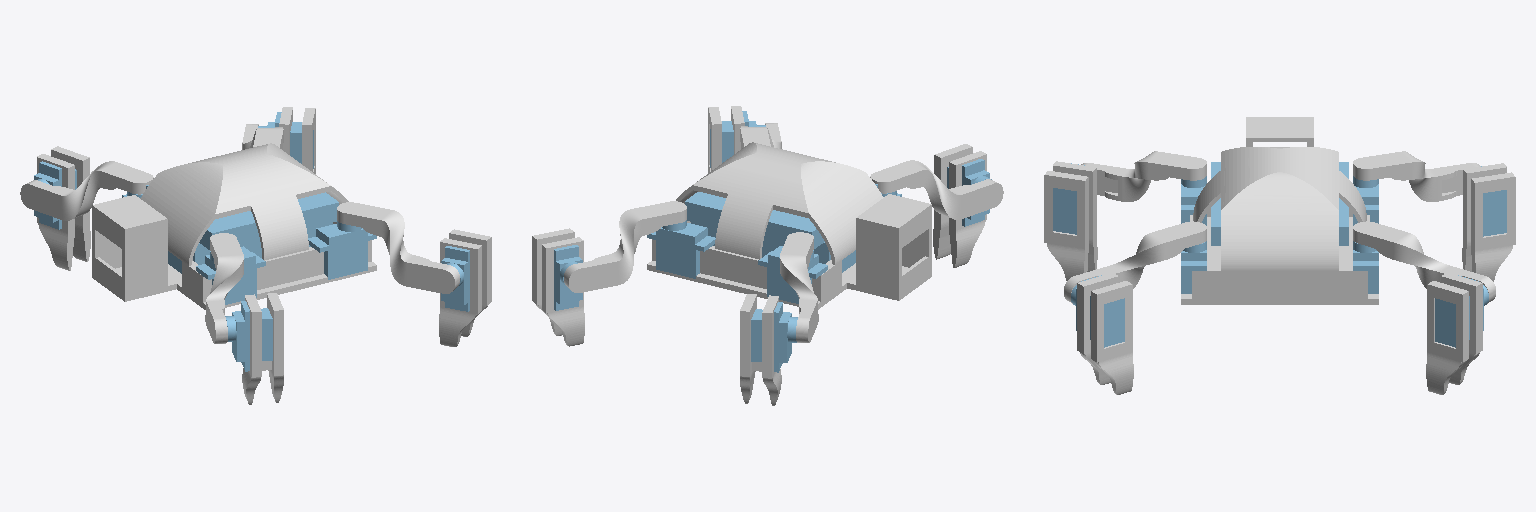
URDF robot description (quadruped_description):
<!--URDF generated by ONSHAPE BY PTC INC, 1.223-->
<robot name="quadruped_description">
    <link name="battery">
        <inertial>
            <mass value="6.6297e-05" />
            <origin xyz="-7.51456e-18 5.50052e-18 0.0105" rpy="0 -0 0" />
            <inertia ixx="3.51927e-08" ixy="0" ixz="0" iyy="1.17235e-08" iyz="0" izz="4.20433e-08" />
        </inertial>
        <visual>
            <origin xyz="-7.41044e-18 7.51008e-18 0" rpy="0 -0 0" />
            <geometry>
                <mesh filename="package://quadruped_description/meshes/battery.stl" scale="1 1 1" />
            </geometry>
            <material name="0.615686_0.811765_0.929412_0.000000_0.000000">
                <color rgba="0.615686 0.811765 0.929412 1" />
            </material>
        </visual>
    </link>
    <link name="body_bottom">
        <inertial>
            <mass value="0.0529947" />
            <origin xyz="0.00498473 4.07013e-18 0.00426981" rpy="0 -0 0" />
            <inertia ixx="3.99559e-05" ixy="0" ixz="-1.63984e-06" iyy="6.26816e-05" iyz="0" izz="0.000100265" />
        </inertial>
        <visual>
            <origin xyz="-0.0415721 -1.04723e-18 0" rpy="0 -0 0" />
            <geometry>
                <mesh filename="package://quadruped_description/meshes/body_bottom.stl" scale="1 1 1" />
            </geometry>
            <material name="0.901961_0.901961_0.901961_0.000000_0.000000">
                <color rgba="0.901961 0.901961 0.901961 1" />
            </material>
        </visual>
    </link>
    <link name="body_top">
        <inertial>
            <mass value="0.0220922" />
            <origin xyz="-0.0475001 2.4544e-08 0.0202714" rpy="0 -0 0" />
            <inertia ixx="1.12547e-05" ixy="-7.95807e-12" ixz="5.44726e-11" iyy="1.96837e-05" iyz="-1.43156e-10" izz="2.66986e-05" />
        </inertial>
        <visual>
            <origin xyz="-0.095 0 0" rpy="0 -0 0" />
            <geometry>
                <mesh filename="package://quadruped_description/meshes/body_top.stl" scale="1 1 1" />
            </geometry>
            <material name="0.901961_0.901961_0.901961_0.000000_0.000000">
                <color rgba="0.901961 0.901961 0.901961 1" />
            </material>
        </visual>
    </link>
    <link name="electronics">
        <inertial>
            <mass value="4.576e-05" />
            <origin xyz="7.33348e-18 2.53543e-19 0.005" rpy="0 -0 0" />
            <inertia ixx="1.60007e-08" ixy="0" ixz="0" iyy="1.9876e-08" iyz="0" izz="3.51141e-08" />
        </inertial>
        <visual>
            <origin xyz="9.39275e-18 -9.86649e-19 0" rpy="0 -0 0" />
            <geometry>
                <mesh filename="package://quadruped_description/meshes/electronics.stl" scale="1 1 1" />
            </geometry>
            <material name="0.615686_0.811765_0.929412_0.000000_0.000000">
                <color rgba="0.615686 0.811765 0.929412 1" />
            </material>
        </visual>
    </link>
    <link name="femur_left">
        <inertial>
            <mass value="0.00841079" />
            <origin xyz="-0.0270347 -0.00708963 0.0113577" rpy="0 0.610865 0" />
            <inertia ixx="1.01501e-06" ixy="-1.14374e-06" ixz="-7.15637e-07" iyy="2.97273e-06" iyz="-3.8721e-07" izz="3.36401e-06" />
        </inertial>
        <visual>
            <origin xyz="0.00094194 0.004 -0.00126994" rpy="0 0.610865 0" />
            <geometry>
                <mesh filename="package://quadruped_description/meshes/femur_left.stl" scale="1 1 1" />
            </geometry>
            <material name="0.901961_0.901961_0.901961_0.000000_0.000000">
                <color rgba="0.901961 0.901961 0.901961 1" />
            </material>
        </visual>
    </link>
    <link name="femur_left_1">
        <inertial>
            <mass value="0.00841079" />
            <origin xyz="-0.0251522 -0.00708963 -0.0146913" rpy="0 -0.349066 0" />
            <inertia ixx="1.01501e-06" ixy="-1.14374e-06" ixz="-7.15637e-07" iyy="2.97273e-06" iyz="-3.8721e-07" izz="3.36401e-06" />
        </inertial>
        <visual>
            <origin xyz="0.00123853 0.004 0.000982877" rpy="0 -0.349066 0" />
            <geometry>
                <mesh filename="package://quadruped_description/meshes/femur_left.stl" scale="1 1 1" />
            </geometry>
            <material name="0.901961_0.901961_0.901961_0.000000_0.000000">
                <color rgba="0.901961 0.901961 0.901961 1" />
            </material>
        </visual>
    </link>
    <link name="femur_right">
        <inertial>
            <mass value="0.00841302" />
            <origin xyz="-0.0251523 -0.00708985 0.014691" rpy="0 0.349066 0" />
            <inertia ixx="1.01526e-06" ixy="-1.14408e-06" ixz="7.15827e-07" iyy="2.97363e-06" iyz="3.87284e-07" izz="3.36501e-06" />
        </inertial>
        <visual>
            <origin xyz="0.00123853 0.004 -0.000982877" rpy="0 0.349066 0" />
            <geometry>
                <mesh filename="package://quadruped_description/meshes/femur_right.stl" scale="1 1 1" />
            </geometry>
            <material name="0.901961_0.901961_0.901961_0.000000_0.000000">
                <color rgba="0.901961 0.901961 0.901961 1" />
            </material>
        </visual>
    </link>
    <link name="femur_right_1">
        <inertial>
            <mass value="0.00841302" />
            <origin xyz="-0.0270345 -0.00708985 -0.011358" rpy="0 -0.610865 0" />
            <inertia ixx="1.01526e-06" ixy="-1.14408e-06" ixz="7.15827e-07" iyy="2.97363e-06" iyz="3.87284e-07" izz="3.36501e-06" />
        </inertial>
        <visual>
            <origin xyz="0.00094194 0.004 0.00126994" rpy="0 -0.610865 0" />
            <geometry>
                <mesh filename="package://quadruped_description/meshes/femur_right.stl" scale="1 1 1" />
            </geometry>
            <material name="0.901961_0.901961_0.901961_0.000000_0.000000">
                <color rgba="0.901961 0.901961 0.901961 1" />
            </material>
        </visual>
    </link>
    <link name="head">
        <inertial>
            <mass value="0.00772393" />
            <origin xyz="0.0098935 0.016 0.0217151" rpy="0 -0 0" />
            <inertia ixx="2.34052e-06" ixy="0" ixz="-7.17769e-08" iyy="1.54989e-06" iyz="0" izz="1.68052e-06" />
        </inertial>
        <visual>
            <origin xyz="0.013 0.016 0" rpy="0 -0 0" />
            <geometry>
                <mesh filename="package://quadruped_description/meshes/head.stl" scale="1 1 1" />
            </geometry>
            <material name="0.901961_0.901961_0.901961_0.000000_0.000000">
                <color rgba="0.901961 0.901961 0.901961 1" />
            </material>
        </visual>
    </link>
    <link name="back_left_foot">
        <inertial>
            <mass value="1e-09" />
            <origin xyz="0 0 0" rpy="0 -0 0" />
            <inertia ixx="4e-14" ixy="0" ixz="0" iyy="4e-14" iyz="0" izz="4e-14" />
        </inertial>
    </link>
    <link name="front_left_foot">
        <inertial>
            <mass value="1e-09" />
            <origin xyz="0 0 0" rpy="0 -0 0" />
            <inertia ixx="4e-14" ixy="0" ixz="0" iyy="4e-14" iyz="0" izz="4e-14" />
        </inertial>
    </link>
    <link name="back_right_foot">
        <inertial>
            <mass value="1e-09" />
            <origin xyz="0 0 0" rpy="0 -0 0" />
            <inertia ixx="4e-14" ixy="0" ixz="0" iyy="4e-14" iyz="0" izz="4e-14" />
        </inertial>
    </link>
    <link name="front_right_foot">
        <inertial>
            <mass value="1e-09" />
            <origin xyz="0 0 0" rpy="0 -0 0" />
            <inertia ixx="4e-14" ixy="0" ixz="0" iyy="4e-14" iyz="0" izz="4e-14" />
        </inertial>
    </link>
    <link name="base_link" />
    <link name="servo">
        <inertial>
            <mass value="7.03502e-06" />
            <origin xyz="7.59738e-20 0.000331947 0.0123979" rpy="0 -0 0" />
            <inertia ixx="6.82657e-10" ixy="0" ixz="0" iyy="4.41973e-10" iyz="-2.85533e-11" izz="4.17681e-10" />
        </inertial>
        <visual>
            <origin xyz="3.25309e-19 4.01038e-19 0" rpy="0 -0 0" />
            <geometry>
                <mesh filename="package://quadruped_description/meshes/servo.stl" scale="1 1 1" />
            </geometry>
            <material name="0.615686_0.811765_0.929412_0.000000_0.000000">
                <color rgba="0.615686 0.811765 0.929412 1" />
            </material>
        </visual>
    </link>
    <link name="servo_1">
        <inertial>
            <mass value="7.03502e-06" />
            <origin xyz="7.59738e-20 0.000331947 0.0123979" rpy="0 -0 0" />
            <inertia ixx="6.82657e-10" ixy="0" ixz="0" iyy="4.41973e-10" iyz="-2.85533e-11" izz="4.17681e-10" />
        </inertial>
        <visual>
            <origin xyz="3.25309e-19 4.01038e-19 0" rpy="0 -0 0" />
            <geometry>
                <mesh filename="package://quadruped_description/meshes/servo.stl" scale="1 1 1" />
            </geometry>
            <material name="0.615686_0.811765_0.929412_0.000000_0.000000">
                <color rgba="0.615686 0.811765 0.929412 1" />
            </material>
        </visual>
    </link>
    <link name="servo_2">
        <inertial>
            <mass value="7.03502e-06" />
            <origin xyz="7.59738e-20 0.000331947 0.0123979" rpy="0 -0 0" />
            <inertia ixx="6.82657e-10" ixy="0" ixz="0" iyy="4.41973e-10" iyz="-2.85533e-11" izz="4.17681e-10" />
        </inertial>
        <visual>
            <origin xyz="3.25309e-19 4.01038e-19 0" rpy="0 -0 0" />
            <geometry>
                <mesh filename="package://quadruped_description/meshes/servo.stl" scale="1 1 1" />
            </geometry>
            <material name="0.615686_0.811765_0.929412_0.000000_0.000000">
                <color rgba="0.615686 0.811765 0.929412 1" />
            </material>
        </visual>
    </link>
    <link name="servo_3">
        <inertial>
            <mass value="7.03502e-06" />
            <origin xyz="7.59738e-20 0.000331947 0.0123979" rpy="0 -0 0" />
            <inertia ixx="6.82657e-10" ixy="0" ixz="0" iyy="4.41973e-10" iyz="-2.85533e-11" izz="4.17681e-10" />
        </inertial>
        <visual>
            <origin xyz="3.25309e-19 4.01038e-19 0" rpy="0 -0 0" />
            <geometry>
                <mesh filename="package://quadruped_description/meshes/servo.stl" scale="1 1 1" />
            </geometry>
            <material name="0.615686_0.811765_0.929412_0.000000_0.000000">
                <color rgba="0.615686 0.811765 0.929412 1" />
            </material>
        </visual>
    </link>
    <link name="servo_4">
        <inertial>
            <mass value="7.03502e-06" />
            <origin xyz="-2.49335e-19 -0.00421805 -0.0143521" rpy="0 -0 0" />
            <inertia ixx="6.82657e-10" ixy="0" ixz="0" iyy="4.41973e-10" iyz="-2.85533e-11" izz="4.17681e-10" />
        </inertial>
        <visual>
            <origin xyz="0 -0.00455 -0.02675" rpy="0 -0 0" />
            <geometry>
                <mesh filename="package://quadruped_description/meshes/servo.stl" scale="1 1 1" />
            </geometry>
            <material name="0.615686_0.811765_0.929412_0.000000_0.000000">
                <color rgba="0.615686 0.811765 0.929412 1" />
            </material>
        </visual>
    </link>
    <link name="servo_5">
        <inertial>
            <mass value="7.03502e-06" />
            <origin xyz="-2.49335e-19 -0.00421805 -0.0143521" rpy="0 -0 0" />
            <inertia ixx="6.82657e-10" ixy="0" ixz="0" iyy="4.41973e-10" iyz="-2.85533e-11" izz="4.17681e-10" />
        </inertial>
        <visual>
            <origin xyz="0 -0.00455 -0.02675" rpy="0 -0 0" />
            <geometry>
                <mesh filename="package://quadruped_description/meshes/servo.stl" scale="1 1 1" />
            </geometry>
            <material name="0.615686_0.811765_0.929412_0.000000_0.000000">
                <color rgba="0.615686 0.811765 0.929412 1" />
            </material>
        </visual>
    </link>
    <link name="servo_6">
        <inertial>
            <mass value="7.03502e-06" />
            <origin xyz="-2.49335e-19 -0.00421805 -0.0143521" rpy="0 -0 0" />
            <inertia ixx="6.82657e-10" ixy="0" ixz="0" iyy="4.41973e-10" iyz="-2.85533e-11" izz="4.17681e-10" />
        </inertial>
        <visual>
            <origin xyz="0 -0.00455 -0.02675" rpy="0 -0 0" />
            <geometry>
                <mesh filename="package://quadruped_description/meshes/servo.stl" scale="1 1 1" />
            </geometry>
            <material name="0.615686_0.811765_0.929412_0.000000_0.000000">
                <color rgba="0.615686 0.811765 0.929412 1" />
            </material>
        </visual>
    </link>
    <link name="servo_7">
        <inertial>
            <mass value="7.03502e-06" />
            <origin xyz="-2.49335e-19 -0.00421805 -0.0143521" rpy="0 -0 0" />
            <inertia ixx="6.82657e-10" ixy="0" ixz="0" iyy="4.41973e-10" iyz="-2.85533e-11" izz="4.17681e-10" />
        </inertial>
        <visual>
            <origin xyz="0 -0.00455 -0.02675" rpy="0 -0 0" />
            <geometry>
                <mesh filename="package://quadruped_description/meshes/servo.stl" scale="1 1 1" />
            </geometry>
            <material name="0.615686_0.811765_0.929412_0.000000_0.000000">
                <color rgba="0.615686 0.811765 0.929412 1" />
            </material>
        </visual>
    </link>
    <link name="tibia_left">
        <inertial>
            <mass value="0.00882206" />
            <origin xyz="0.0204135 0.00799998 -0.000970394" rpy="0 -0 0" />
            <inertia ixx="6.53102e-07" ixy="4.06634e-12" ixz="1.63163e-07" iyy="2.42342e-06" iyz="-1.10596e-12" izz="2.37905e-06" />
        </inertial>
        <visual>
            <origin xyz="0.0061 0.0304 0" rpy="0 -0 0" />
            <geometry>
                <mesh filename="package://quadruped_description/meshes/tibia_left.stl" scale="1 1 1" />
            </geometry>
            <material name="0.901961_0.901961_0.901961_0.000000_0.000000">
                <color rgba="0.901961 0.901961 0.901961 1" />
            </material>
        </visual>
    </link>
    <link name="tibia_left_1">
        <inertial>
            <mass value="0.00882206" />
            <origin xyz="0.0204135 0.00799998 -0.000970394" rpy="0 -0 0" />
            <inertia ixx="6.53102e-07" ixy="4.06633e-12" ixz="1.63163e-07" iyy="2.42342e-06" iyz="-1.10595e-12" izz="2.37905e-06" />
        </inertial>
        <visual>
            <origin xyz="0.0061 0.0304 0" rpy="0 -0 0" />
            <geometry>
                <mesh filename="package://quadruped_description/meshes/tibia_left.stl" scale="1 1 1" />
            </geometry>
            <material name="0.901961_0.901961_0.901961_0.000000_0.000000">
                <color rgba="0.901961 0.901961 0.901961 1" />
            </material>
        </visual>
    </link>
    <link name="tibia_right">
        <inertial>
            <mass value="0.00882206" />
            <origin xyz="0.0204135 -0.00800002 -0.000970394" rpy="0 -0 0" />
            <inertia ixx="6.53102e-07" ixy="4.0666e-12" ixz="1.63163e-07" iyy="2.42342e-06" iyz="-1.10602e-12" izz="2.37905e-06" />
        </inertial>
        <visual>
            <origin xyz="0.0061 0.0144 0" rpy="0 -0 0" />
            <geometry>
                <mesh filename="package://quadruped_description/meshes/tibia_right.stl" scale="1 1 1" />
            </geometry>
            <material name="0.901961_0.901961_0.901961_0.000000_0.000000">
                <color rgba="0.901961 0.901961 0.901961 1" />
            </material>
        </visual>
    </link>
    <link name="tibia_right_1">
        <inertial>
            <mass value="0.00882206" />
            <origin xyz="0.0204135 -0.00800002 -0.000970394" rpy="0 -0 0" />
            <inertia ixx="6.53102e-07" ixy="4.06659e-12" ixz="1.63163e-07" iyy="2.42342e-06" iyz="-1.10601e-12" izz="2.37905e-06" />
        </inertial>
        <visual>
            <origin xyz="0.0061 0.0144 0" rpy="0 -0 0" />
            <geometry>
                <mesh filename="package://quadruped_description/meshes/tibia_right.stl" scale="1 1 1" />
            </geometry>
            <material name="0.901961_0.901961_0.901961_0.000000_0.000000">
                <color rgba="0.901961 0.901961 0.901961 1" />
            </material>
        </visual>
    </link>
    <joint name="batteries" type="fixed">
        <origin xyz="0.00468333 -1.04723e-18 0.003" rpy="3.29597e-16 -3.29597e-16 1.5708" />
        <axis xyz="0 0 -1" />
        <parent link="body_bottom" />
        <child link="battery" />
    </joint>
    <joint name="bodies" type="fixed">
        <origin xyz="0.0534279 1.97695e-17 0.0172" rpy="5.89806e-17 -5.55112e-17 3.84913e-15" />
        <axis xyz="0 -1 0" />
        <parent link="body_bottom" />
        <child link="body_top" />
    </joint>
    <joint name="electronics" type="fixed">
        <origin xyz="7.1525e-19 1.73472e-18 0.021" rpy="6.16298e-33 -6.16298e-33 -1.5708" />
        <axis xyz="0 0 -1" />
        <parent link="battery" />
        <child link="electronics" />
    </joint>
    <joint name="head_body" type="fixed">
        <origin xyz="-0.0705721 -0.016 0.003" rpy="-5.89806e-17 -2.91514e-16 3.84913e-15" />
        <axis xyz="2.40934e-16 0 1" />
        <parent link="body_bottom" />
        <child link="head" />
    </joint>
    <joint name="back_left_coxa" type="revolute">
        <origin xyz="-2.77556e-17 0.00455 0.02675" rpy="1.5708 1.20082e-14 3.14159" />
        <axis xyz="0 -1 0" />
        <parent link="servo_1" />
        <child link="femur_left" />
        <limit effort="1" velocity="1" lower="-0.907571" upper="1.13446" />
    </joint>
    <joint name="back_left_coxa_servo" type="fixed">
        <origin xyz="0.0371779 -0.0401 0.0015" rpy="-2.84495e-16 -6.59195e-17 -1.5708" />
        <axis xyz="0 0 -1" />
        <parent link="body_bottom" />
        <child link="servo_1" />
    </joint>
    <joint name="back_left_foot" type="fixed">
        <origin xyz="0.04974 0.008027 -0.006747" rpy="-1.5708 -0 1.5708" />
        <axis xyz="0 0 1" />
        <parent link="tibia_left_1" />
        <child link="back_left_foot" />
    </joint>
    <joint name="back_left_tibia" type="revolute">
        <origin xyz="-0.0525502 -0.0165 0.0251987" rpy="3.14159 -0.610865 3.14159" />
        <axis xyz="0 0 1" />
        <parent link="femur_left" />
        <child link="servo_6" />
        <limit effort="1" velocity="1" lower="0" upper="3.08923" />
    </joint>
    <joint name="back_left_tibia_servo" type="fixed">
        <origin xyz="-2.77556e-17 0.0067 -0.01105" rpy="-1.5708 -1.0103e-14 -1.5708" />
        <axis xyz="-1.98254e-16 -1 0" />
        <parent link="servo_6" />
        <child link="tibia_left_1" />
    </joint>
    <joint name="front_left_coxa" type="revolute">
        <origin xyz="1.38778e-17 0.00455 0.02675" rpy="1.5708 -1.86759e-15 -3.03917e-15" />
        <axis xyz="0 -1 0" />
        <parent link="servo" />
        <child link="femur_left_1" />
        <limit effort="1" velocity="1" lower="-0.872665" upper="1.16937" />
    </joint>
    <joint name="front_left_coxa_servo" type="fixed">
        <origin xyz="-0.0253221 -0.0401 0.0015" rpy="-3.46945e-18 3.46945e-18 1.5708" />
        <axis xyz="0 0 -1" />
        <parent link="body_bottom" />
        <child link="servo" />
    </joint>
    <joint name="front_left_foot" type="fixed">
        <origin xyz="0.04974 0.008027 -0.006387" rpy="-1.5708 -5.55112e-17 1.5708" />
        <axis xyz="0 0 1" />
        <parent link="tibia_left" />
        <child link="front_left_foot" />
    </joint>
    <joint name="front_left_tibia" type="revolute">
        <origin xyz="-0.0511252 -0.0155 -0.0276535" rpy="3.14159 0.349066 3.14159" />
        <axis xyz="0 0 1" />
        <parent link="femur_left_1" />
        <child link="servo_7" />
        <limit effort="1" velocity="1" lower="0" upper="3.08923" />
    </joint>
    <joint name="front_left_tibia_servo" type="fixed">
        <origin xyz="0 0.0067 -0.01105" rpy="-1.5708 5.55112e-16 -1.5708" />
        <axis xyz="-1.98254e-16 -1 0" />
        <parent link="servo_7" />
        <child link="tibia_left" />
    </joint>
    <joint name="origin" type="fixed">
        <origin xyz="0 0 0" rpy="-1.73472e-18 -9.24446e-33 2.76101e-30" />
        <axis xyz="0 0 -1" />
        <parent link="base_link" />
        <child link="body_bottom" />
    </joint>
    <joint name="back_right_coxa" type="revolute">
        <origin xyz="1.38778e-17 0.00455 0.02675" rpy="1.5708 -9.18284e-15 -9.97054e-15" />
        <axis xyz="0 -1 0" />
        <parent link="servo_3" />
        <child link="femur_right_1" />
        <limit effort="1" velocity="1" lower="-1.13446" upper="0.907571" />
    </joint>
    <joint name="back_right_coxa_servo" type="fixed">
        <origin xyz="0.0371779 0.0401 0.0015" rpy="-2.84495e-16 -6.59195e-17 -1.5708" />
        <axis xyz="0 0 -1" />
        <parent link="body_bottom" />
        <child link="servo_3" />
    </joint>
    <joint name="back_right_foot" type="fixed">
        <origin xyz="0.04974 -0.007973 -0.006747" rpy="-1.5708 -0 1.5708" />
        <axis xyz="0 0 1" />
        <parent link="tibia_right_1" />
        <child link="back_right_foot" />
    </joint>
    <joint name="back_right_tibia" type="revolute">
        <origin xyz="-0.0525502 -0.0165 -0.0251987" rpy="4.81199e-15 -0.610865 -8.44131e-15" />
        <axis xyz="0 0 1" />
        <parent link="femur_right_1" />
        <child link="servo_5" />
        <limit effort="1" velocity="1" lower="-3.08923" upper="7.10543e-15" />
    </joint>
    <joint name="back_right_tibia_servo" type="fixed">
        <origin xyz="-1.38778e-17 0.0067 -0.01105" rpy="1.5708 1.11022e-16 -1.5708" />
        <axis xyz="0 1 0" />
        <parent link="servo_5" />
        <child link="tibia_right_1" />
    </joint>
    <joint name="front_right_coxa" type="revolute">
        <origin xyz="6.93889e-18 0.00455 0.02675" rpy="1.5708 1.72071e-15 3.14159" />
        <axis xyz="0 -1 0" />
        <parent link="servo_2" />
        <child link="femur_right" />
        <limit effort="1" velocity="1" lower="-1.16937" upper="0.872665" />
    </joint>
    <joint name="front_right_coxa_servo" type="fixed">
        <origin xyz="-0.0253221 0.0401 0.0015" rpy="-3.46945e-18 3.46945e-18 1.5708" />
        <axis xyz="0 0 -1" />
        <parent link="body_bottom" />
        <child link="servo_2" />
    </joint>
    <joint name="front_right_foot" type="fixed">
        <origin xyz="0.04974 -0.007973 -0.006747" rpy="-1.5708 -0 1.5708" />
        <axis xyz="0 0 1" />
        <parent link="tibia_right" />
        <child link="front_right_foot" />
    </joint>
    <joint name="front_right_tibia" type="revolute">
        <origin xyz="-0.0511252 -0.0165 0.0276535" rpy="-1.90177e-14 0.349066 -5.68686e-14" />
        <axis xyz="0 0 1" />
        <parent link="femur_right" />
        <child link="servo_4" />
        <limit effort="1" velocity="1" lower="-3.08923" upper="5.41789e-14" />
    </joint>
    <joint name="front_right_tibia_servo" type="fixed">
        <origin xyz="1.38778e-17 0.0067 -0.01105" rpy="1.5708 5.55112e-17 -1.5708" />
        <axis xyz="0 1 0" />
        <parent link="servo_4" />
        <child link="tibia_right" />
    </joint>
</robot>

--- Facts derived from the render (not from the file) ---
The picture shows the robot from 3 angles, left to right: view 1: azimuth 30°, elevation 25°; view 2: azimuth 150°, elevation 25°; view 3: azimuth 270°, elevation 25°; orthographic projection.
Robot: quadruped_description — 26 links, 25 joints (8 revolute, 17 fixed); root link base_link; default pose: all joints at 0.
Links seen in each view (by area): view 1: body_top, head, body_bottom, femur_left, femur_right, tibia_left_1, tibia_right, tibia_left, femur_left_1, servo_1, electronics, servo_7 (+7 smaller); view 2: body_top, head, body_bottom, femur_right_1, femur_left_1, tibia_right_1, tibia_left, tibia_right, femur_right, servo_3, electronics, servo_4 (+7 smaller); view 3: body_top, body_bottom, tibia_left_1, tibia_right_1, tibia_left, tibia_right, femur_right, femur_left_1, femur_right_1, femur_left, head, electronics (+8 smaller).
Link boxes in pixels (x1,y1,x2,y2): body_top: [140, 143, 348, 265]; head: [92, 195, 167, 295]; body_bottom: [92, 222, 376, 309]; femur_left: [337, 202, 459, 293]; femur_right: [20, 161, 153, 220]; tibia_left_1: [439, 229, 491, 346]; tibia_right: [37, 146, 90, 270]; tibia_left: [242, 293, 283, 404]; femur_left_1: [205, 233, 243, 343]; servo_1: [308, 221, 376, 279]; electronics: [146, 185, 338, 249]; servo_7: [225, 301, 272, 371]; body_top: [676, 142, 883, 264]; head: [856, 194, 931, 294]; body_bottom: [647, 221, 931, 309]; femur_right_1: [564, 201, 686, 292]; femur_left_1: [870, 160, 1003, 219]; tibia_right_1: [532, 228, 584, 346]; tibia_left: [933, 144, 986, 267]; tibia_right: [740, 294, 781, 405]; femur_right: [780, 232, 818, 342]; servo_3: [647, 220, 715, 278]; electronics: [685, 184, 877, 248]; servo_4: [751, 302, 797, 372]; body_top: [1193, 147, 1366, 270]; body_bottom: [1181, 209, 1378, 304]; tibia_left_1: [1077, 273, 1133, 394]; tibia_right_1: [1426, 273, 1482, 394]; tibia_left: [1044, 161, 1097, 280]; tibia_right: [1462, 163, 1515, 281]; femur_right: [1353, 151, 1480, 201]; femur_left_1: [1081, 151, 1206, 201]; femur_right_1: [1353, 221, 1495, 303]; femur_left: [1064, 221, 1206, 303]; head: [1246, 117, 1313, 146]; electronics: [1211, 162, 1348, 245].
Bounding box of the posed robot: 0.1655 × 0.2199 × 0.0835 m (x, y, z).
Meshes: 10 distinct files referenced, 21 mesh visuals loaded (10 binary STL).
